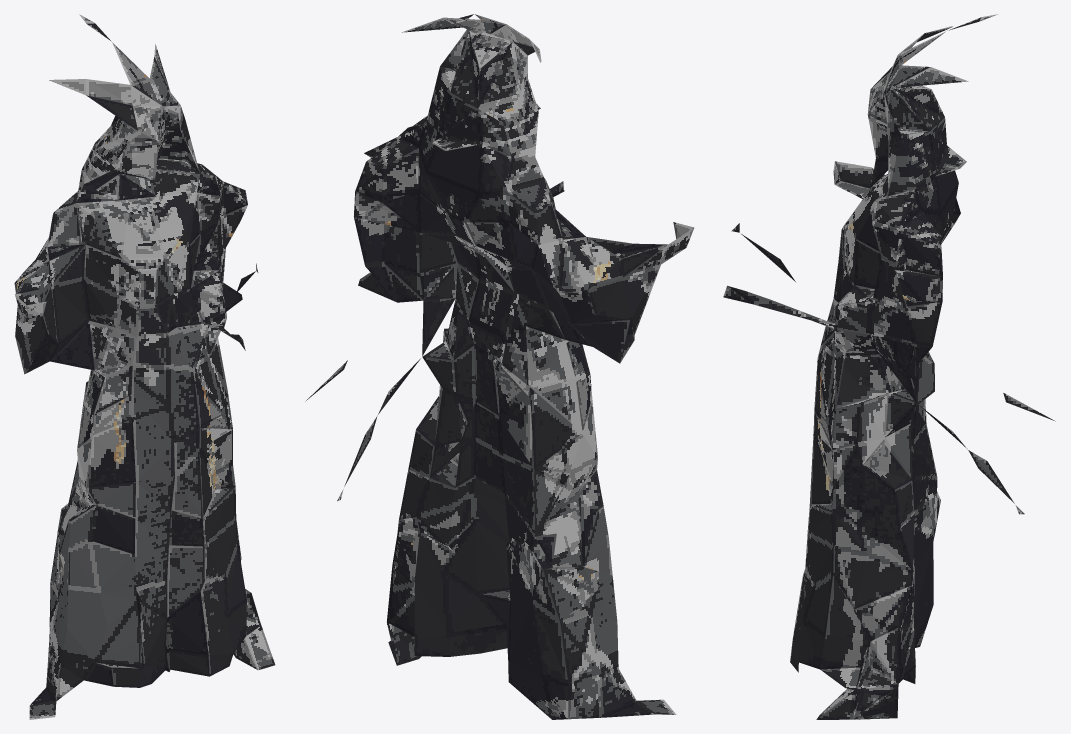
The model's file is raijin.glb.
3 renders of one model, left to right at view 1: azimuth 30°, elevation 25°; view 2: azimuth 150°, elevation 25°; view 3: azimuth 270°, elevation 25°, orthographic. The views are drawn at different scales.
Parts seen in each view (by area): view 1: model_m; view 2: model_m; view 3: model_m.
Boxes of the visible parts, left/top/right/bottom form: model_m: left=14, top=14, right=275, bottom=719; model_m: left=305, top=14, right=694, bottom=719; model_m: left=723, top=14, right=1055, bottom=719.
Bounding box in the file's own units: 19.6 × 46 × 21.07.
1 material, 1 textured.
